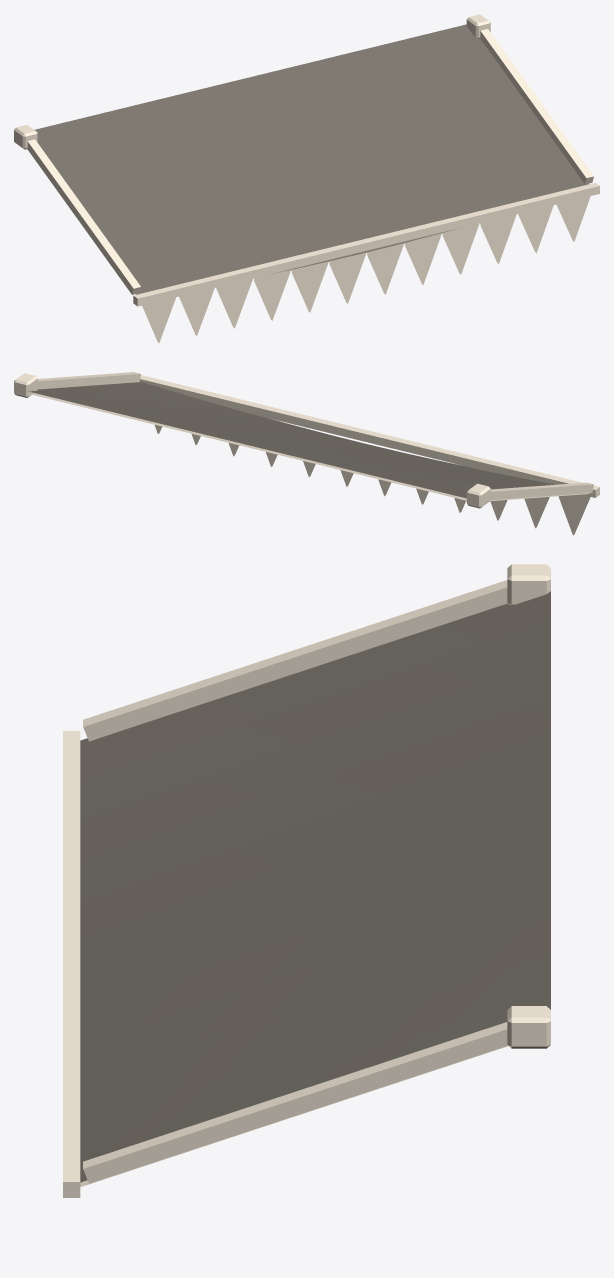
The model's file is SM_VK_Awning.fbx.
The picture shows the model from 3 angles, top to bottom: view 1: azimuth 30°, elevation 25°; view 2: azimuth 150°, elevation 25°; view 3: azimuth 270°, elevation 25°; orthographic projection. The views are drawn at different scales.
Visible parts, largest first — view 1: SM_VK_Awning.001; view 2: SM_VK_Awning.001; view 3: SM_VK_Awning.001.
Boxes of the visible parts, left/top/right/bottom form: SM_VK_Awning.001: left=14, top=14, right=599, bottom=343; SM_VK_Awning.001: left=14, top=372, right=599, bottom=535; SM_VK_Awning.001: left=63, top=564, right=550, bottom=1197.
Size of the model in its own units: 2.48 by 0.7193 by 1.12.
